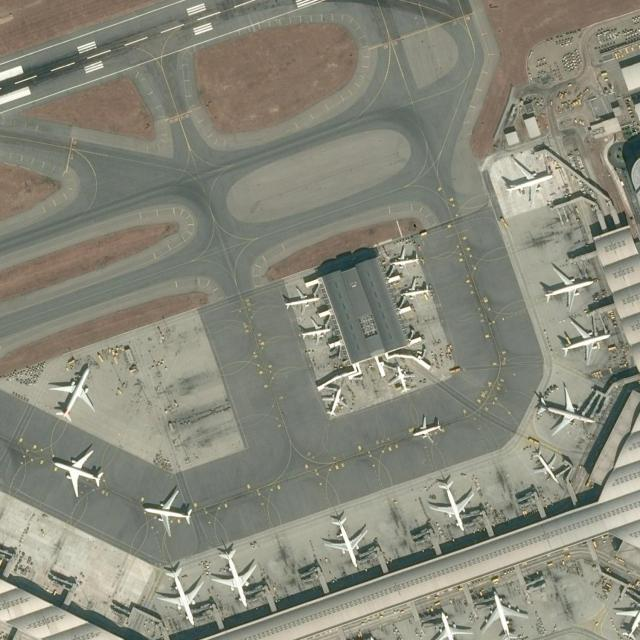Aircraft: (155, 561, 205, 627), (209, 543, 259, 608), (49, 444, 107, 498), (46, 362, 96, 422), (138, 484, 194, 535), (500, 152, 554, 204), (322, 511, 369, 569), (537, 385, 593, 433), (427, 476, 474, 532), (478, 589, 529, 640), (556, 315, 608, 364), (538, 259, 589, 307), (427, 609, 474, 640), (282, 282, 322, 314), (531, 447, 563, 483), (613, 597, 640, 639), (410, 412, 445, 444), (320, 383, 348, 418), (387, 243, 421, 271), (299, 318, 333, 344), (400, 276, 431, 304), (388, 363, 416, 393)
